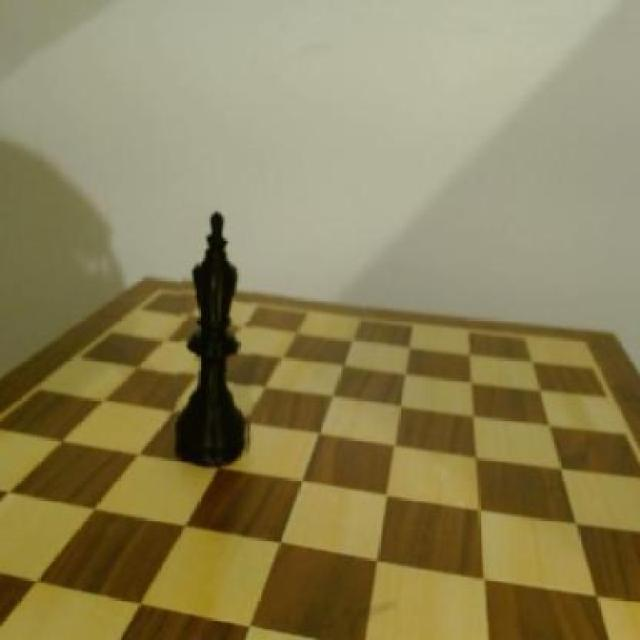black-bishop: (177, 206, 255, 465)
